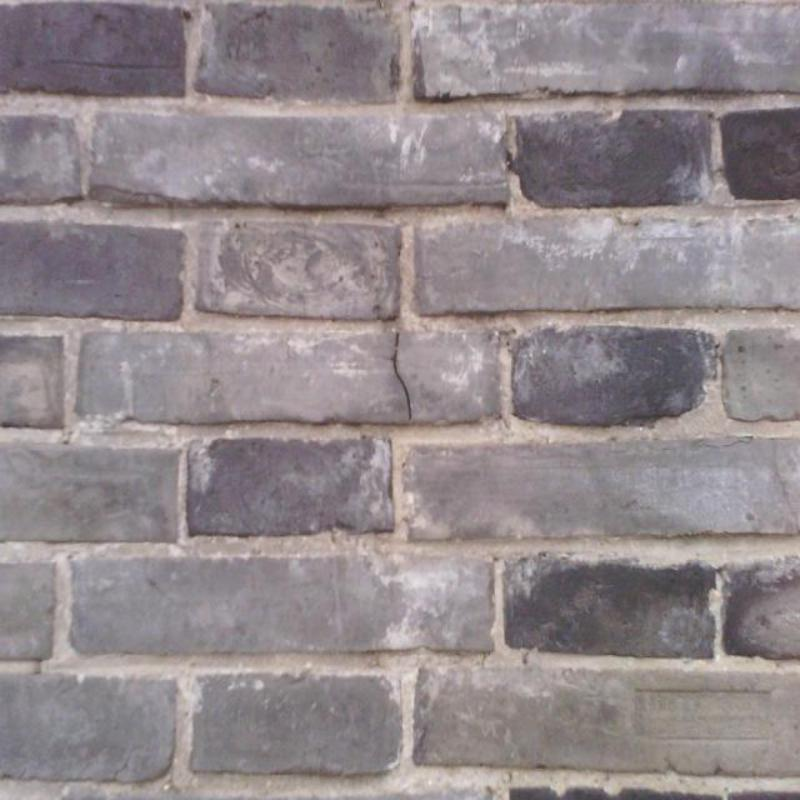pothole: (393, 332, 413, 421)
